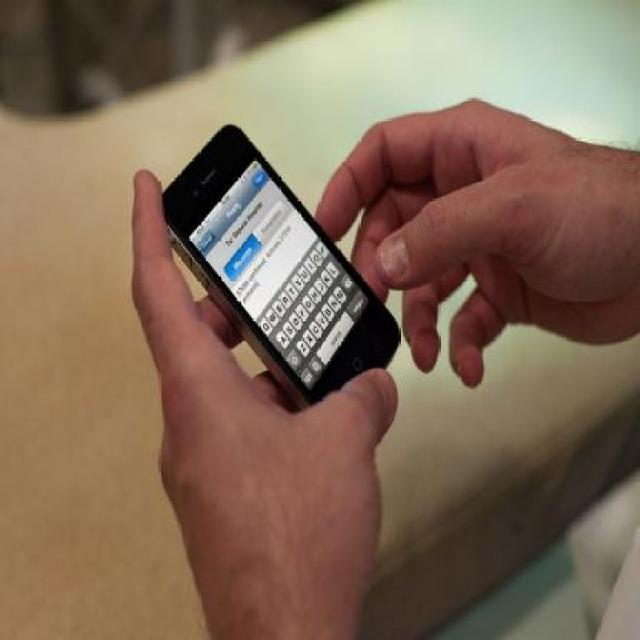phone: (156, 123, 407, 426)
